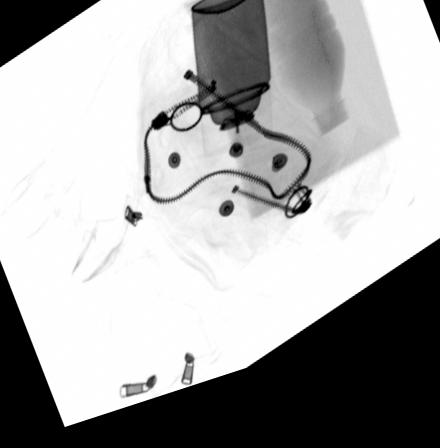Sprayer: (188, 0, 273, 171)
